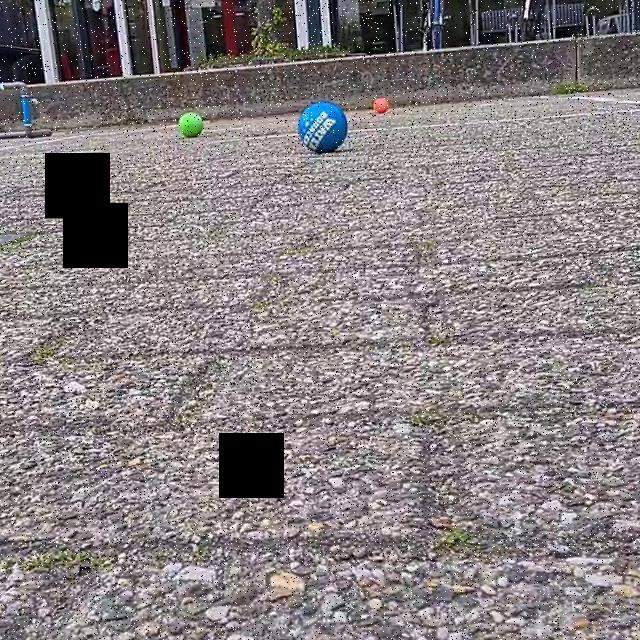ball: (178, 109, 205, 140)
